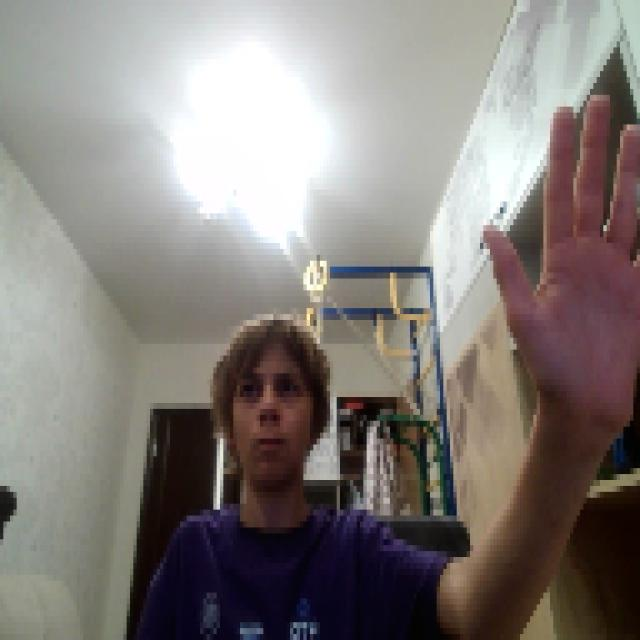hand: (480, 83, 637, 427)
